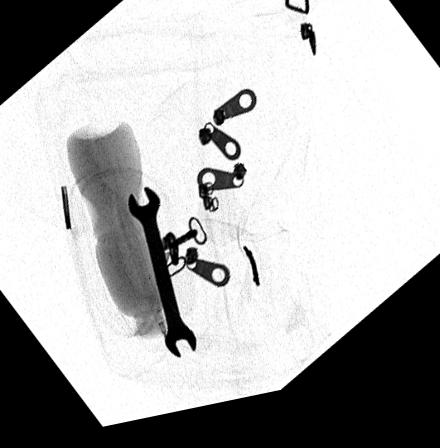Wrench: (126, 192, 197, 364)
